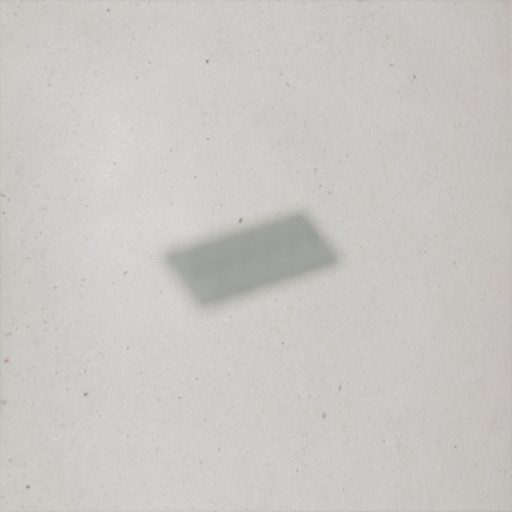lego: (156, 207, 345, 315)
